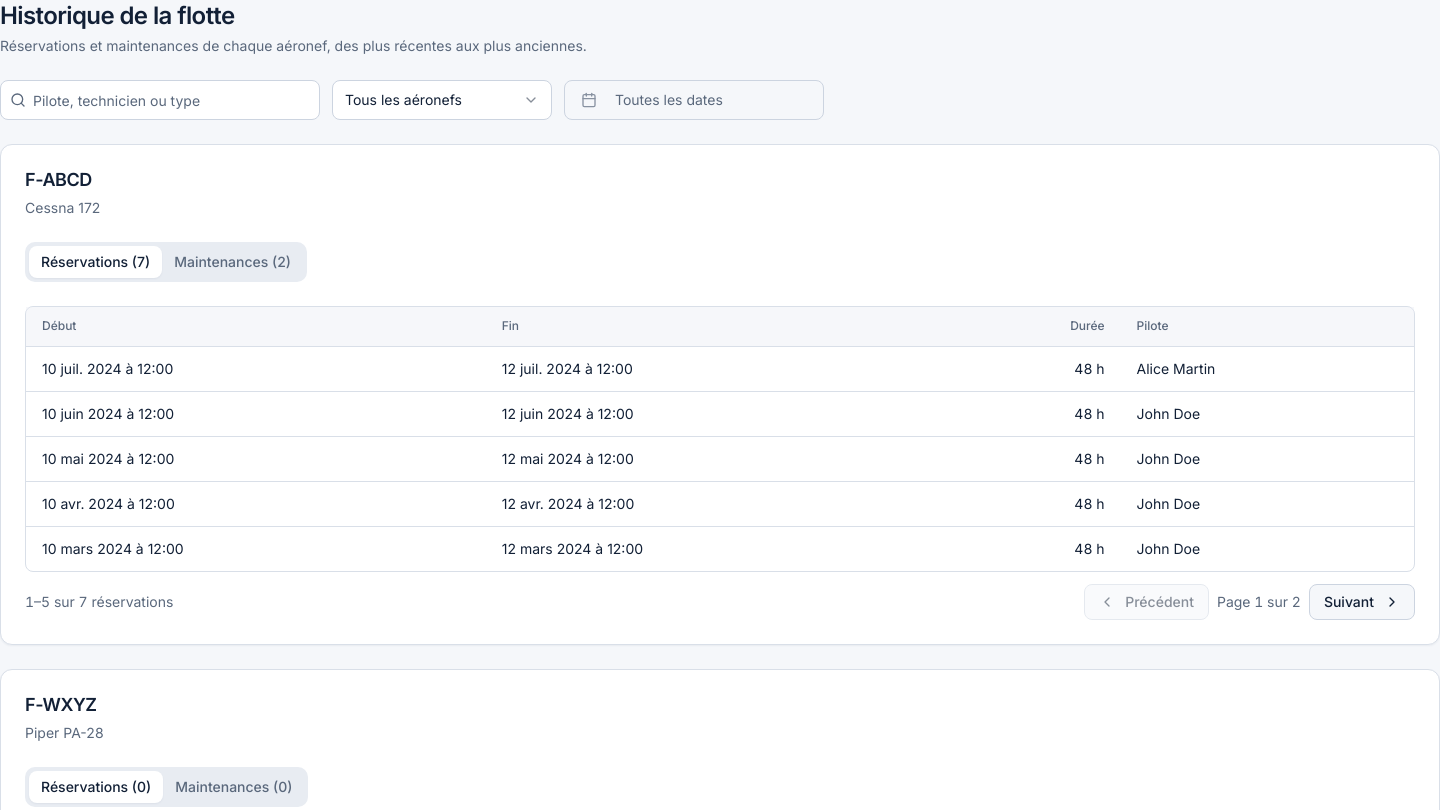
Test: AircraftHistory Component › doit paginer les réservations par groupes de 5
This screenshot has width=1440, height=810.
Expected: the text "F-ABCD" is shown, [25,169,92,190]
Expected: the text "Page 1 sur 2" is shown, [1217,592,1301,612]
Click the button "Suivant" at [1362, 602], box [1309,584,1415,620]
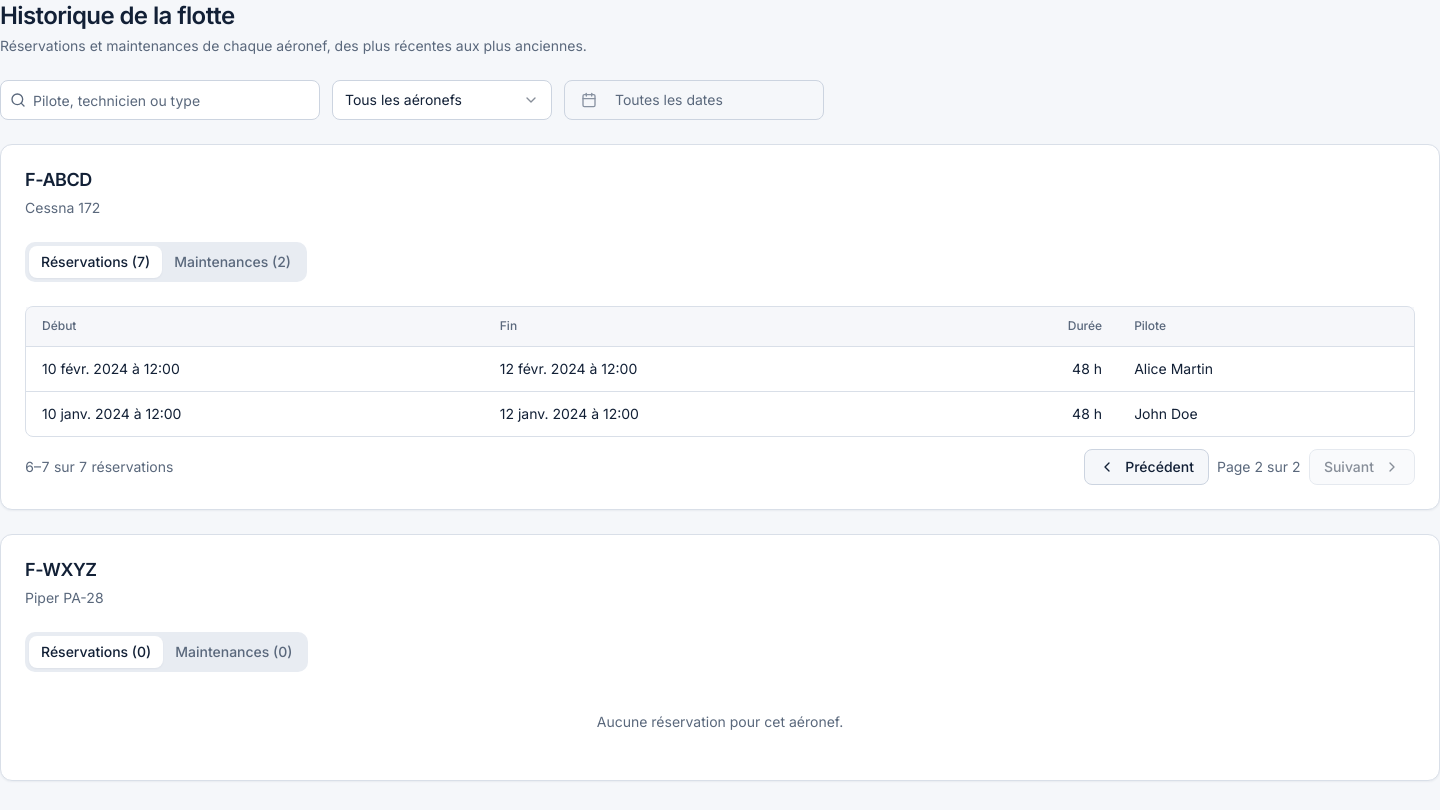
Expected: the text "Page 2 sur 2" is shown, [1217,457,1301,477]
Expected: the text "6–7 sur 7 réservations" is shown, [25,457,173,477]
Expected: the button "Suivant" is disabled, [1309,449,1415,485]
Click the button "Précédent" at [1147, 467], box [1084,449,1209,485]
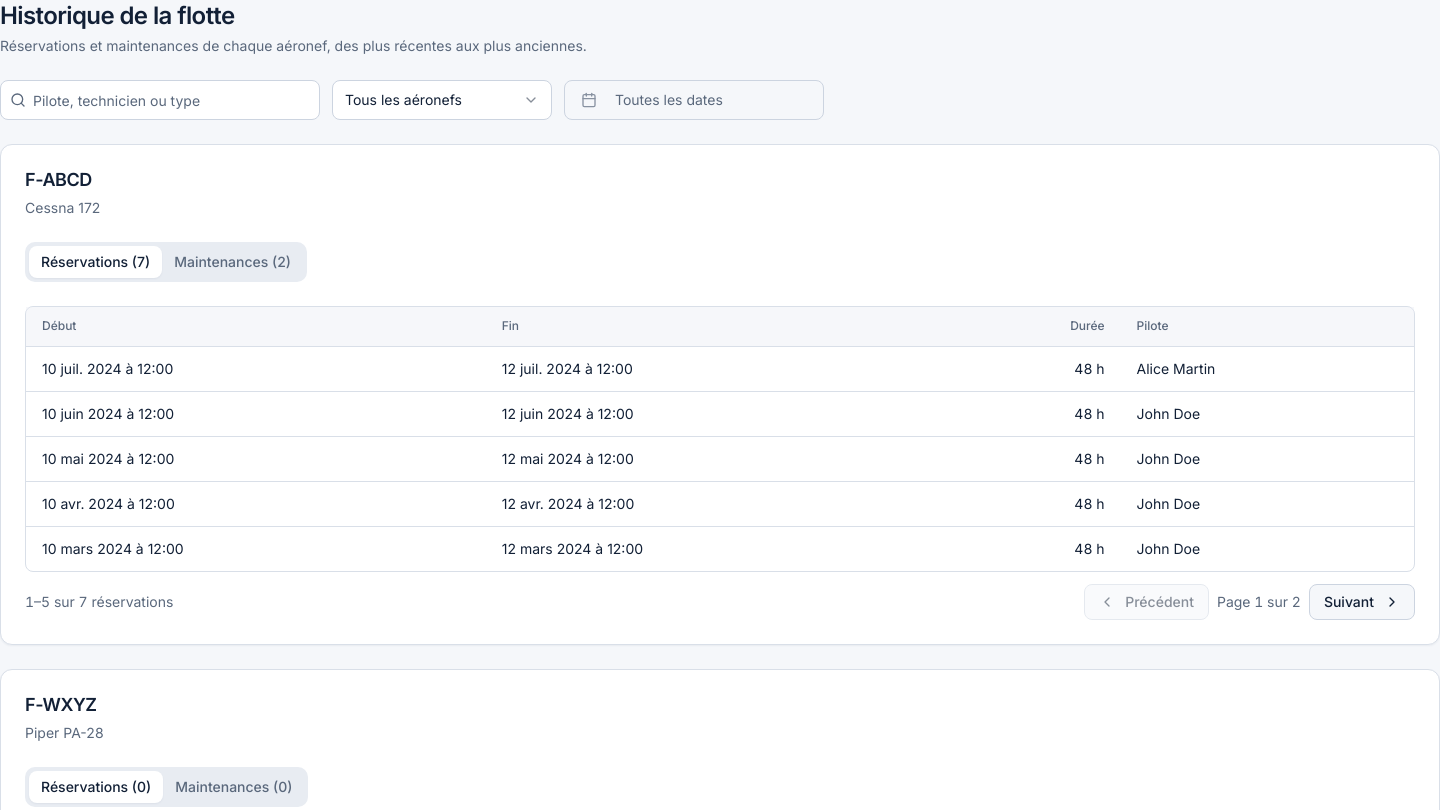
Expected: the text "Page 1 sur 2" is shown, [1217,592,1301,612]
